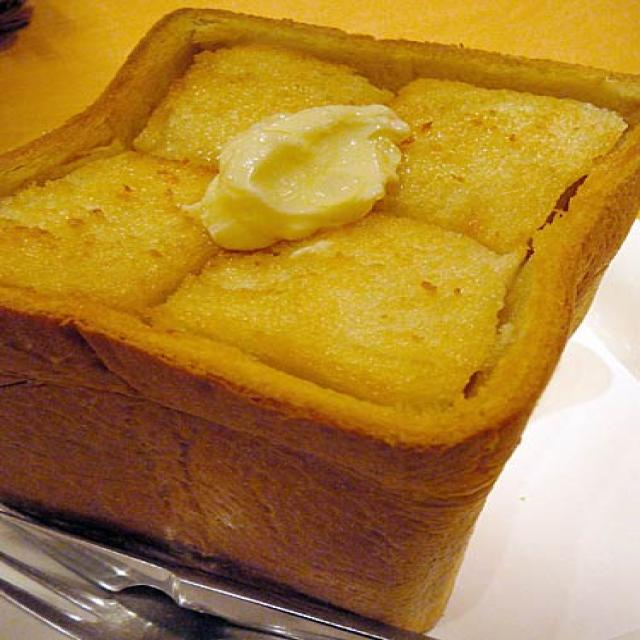面包点心: (0, 1, 640, 598)
